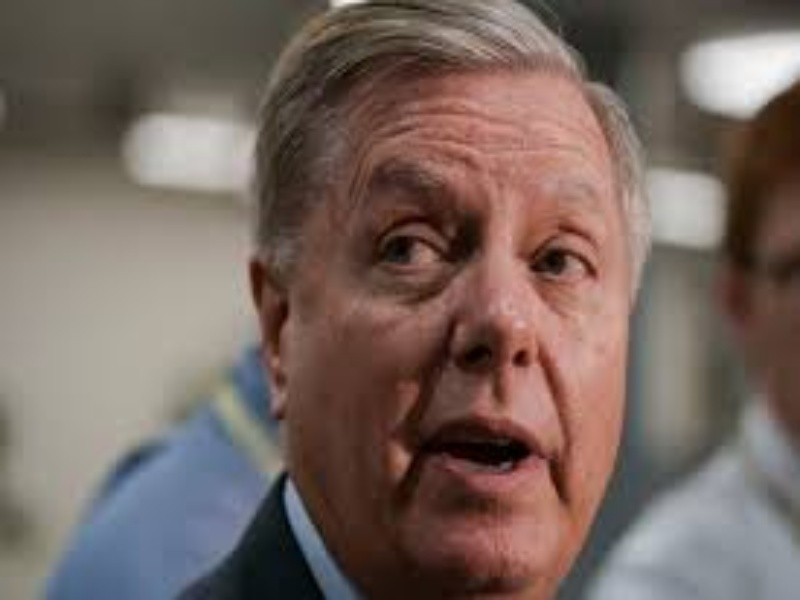face: (339, 149, 615, 547)
